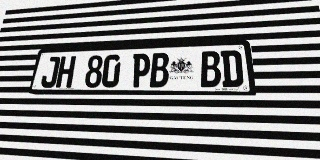0: (101, 54, 121, 88)
8: (84, 55, 104, 88)
B: (200, 51, 221, 87), (150, 53, 169, 87)
D: (220, 50, 244, 87)
H: (55, 56, 76, 88)
J: (40, 57, 61, 88)
P: (131, 53, 151, 87)
